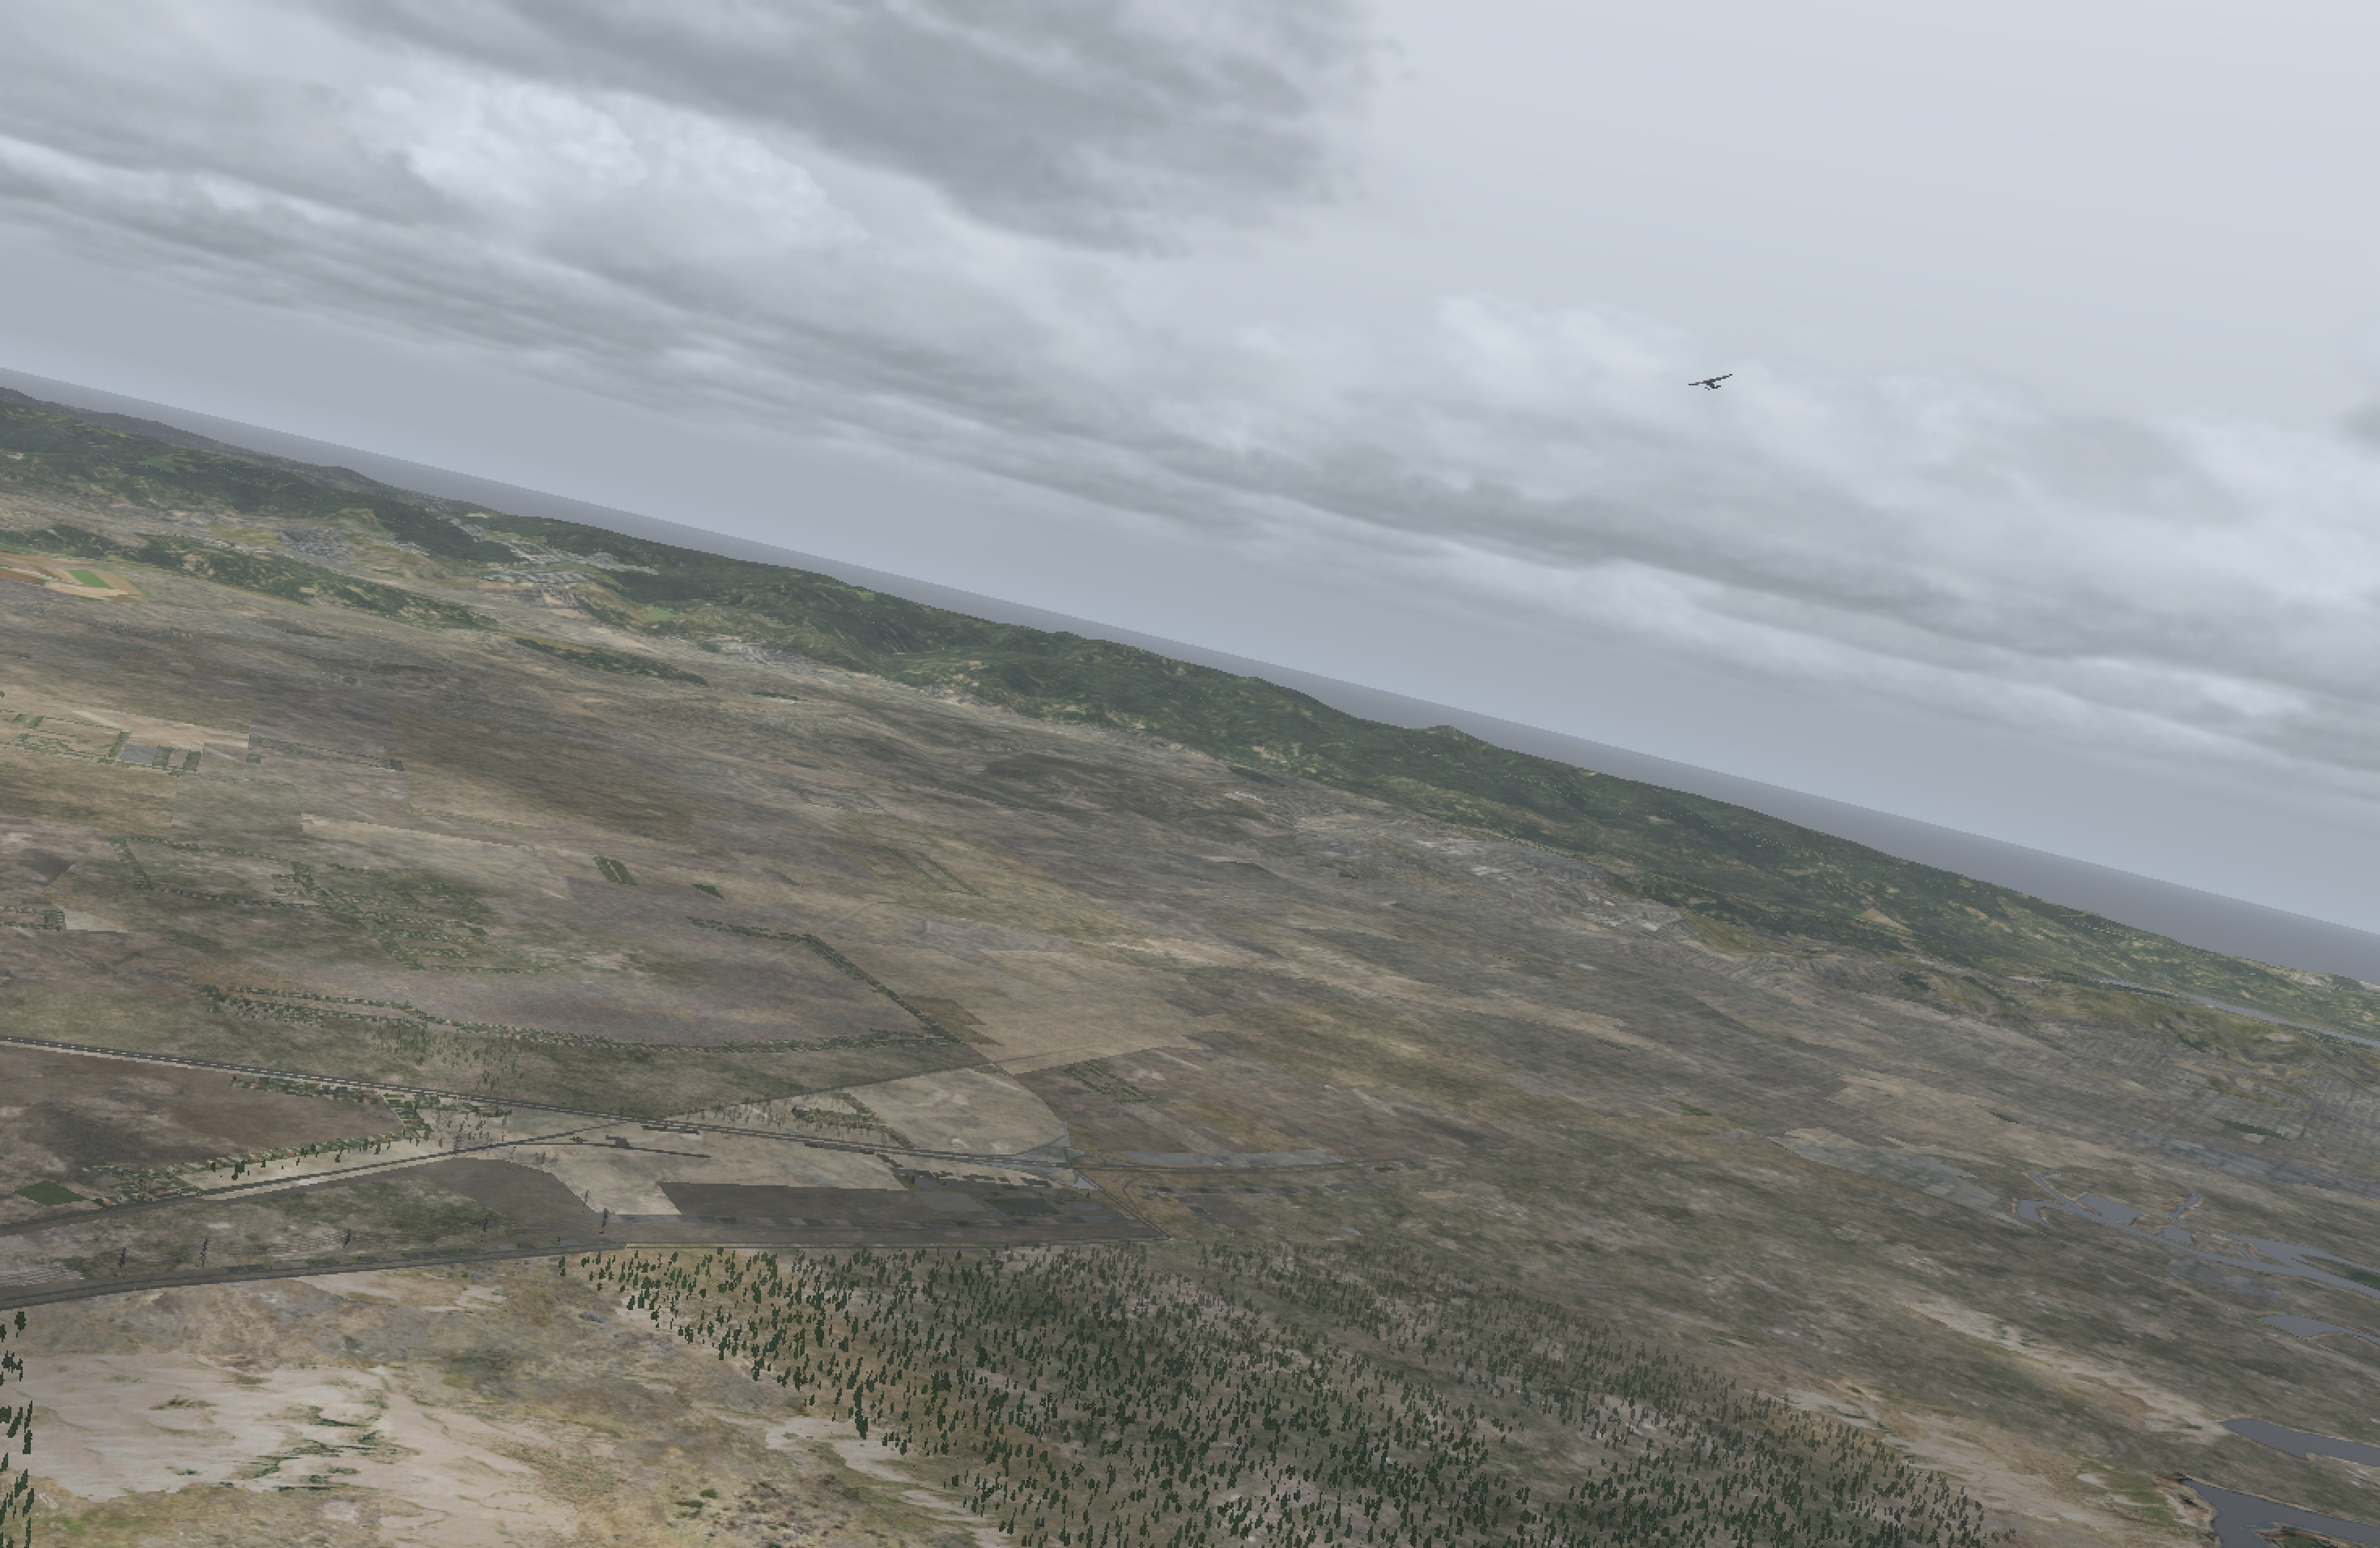aircraft: (1695, 377, 1726, 389)
